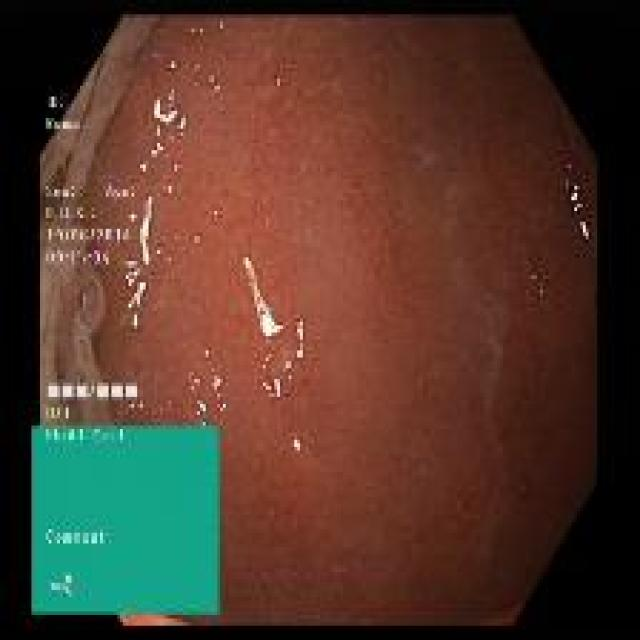ulcerative-colitis: (40, 17, 596, 623)
